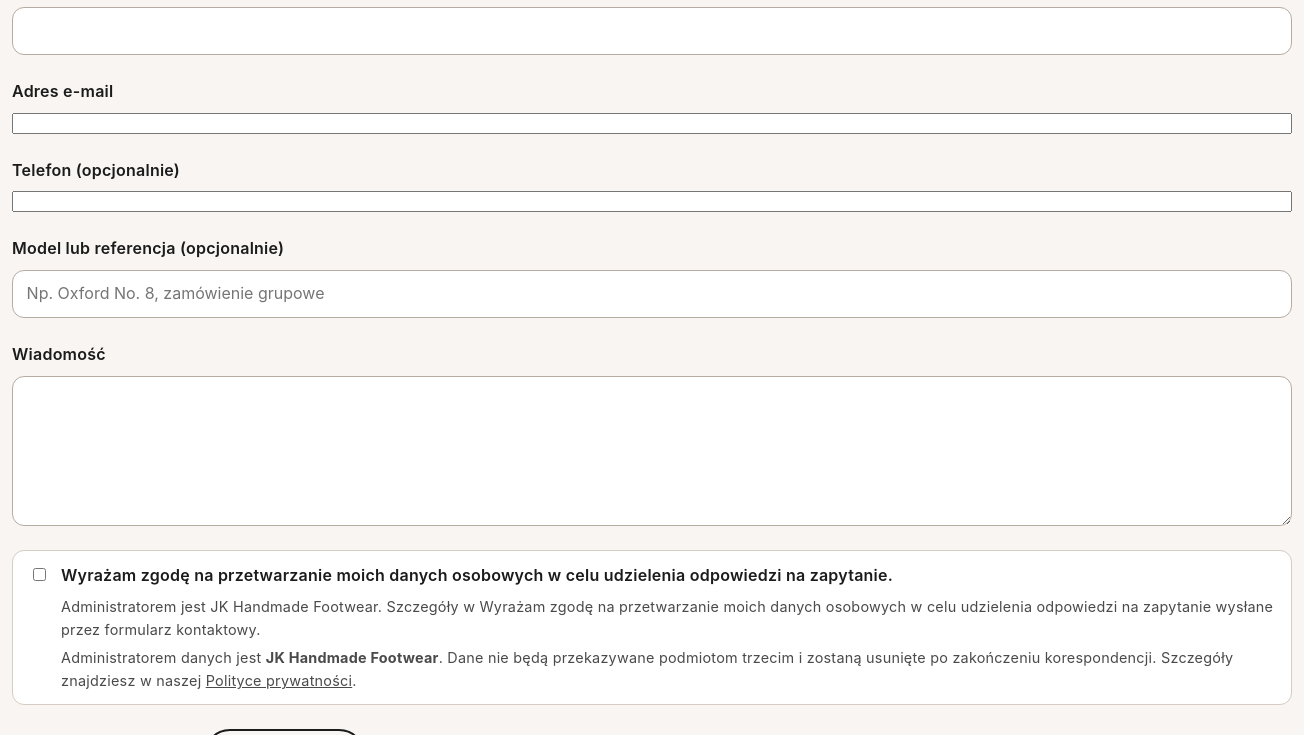
Test: ContactForm › blokuje wysyłkę dopóki wymagane pola nie są uzupełnione
In the field labelled "Imię": point(652, 31) [12,7,1292,55], type "Jan"
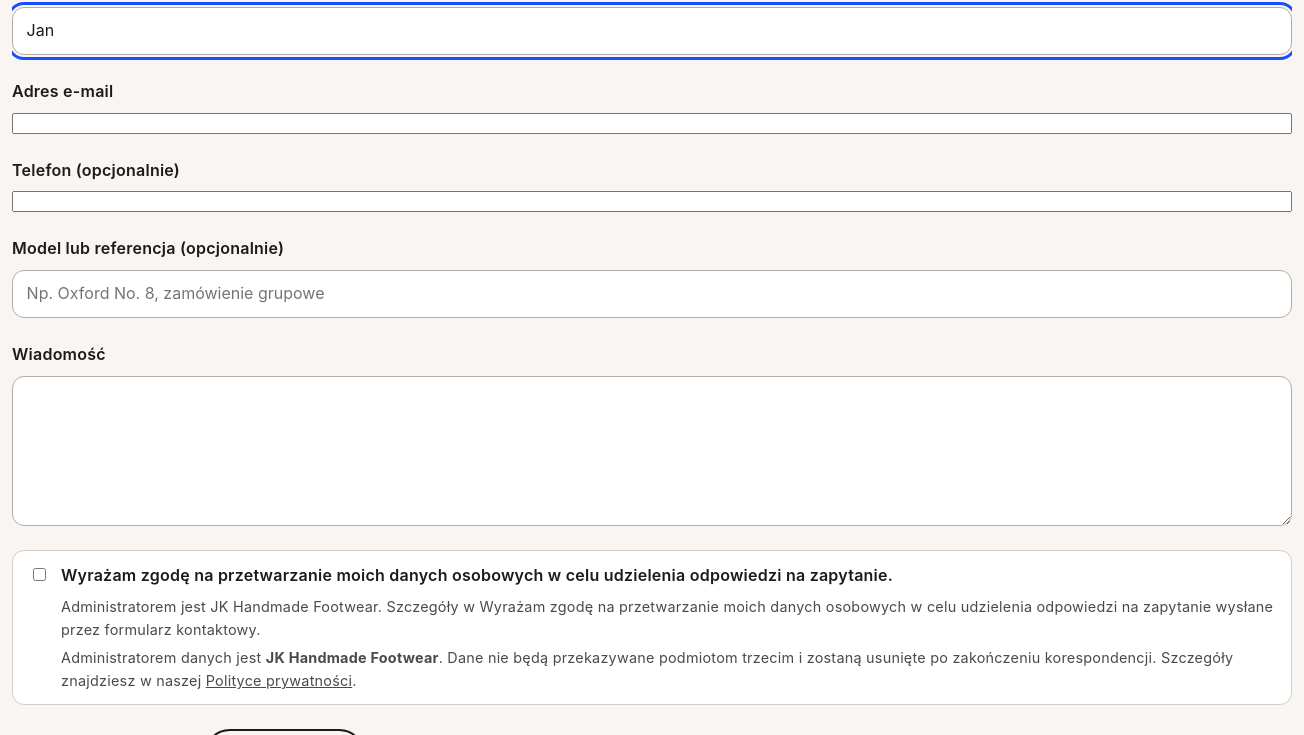
In the field labelled "Adres e-mail": point(652, 123) [12,113,1292,134], type "jan@example.com"
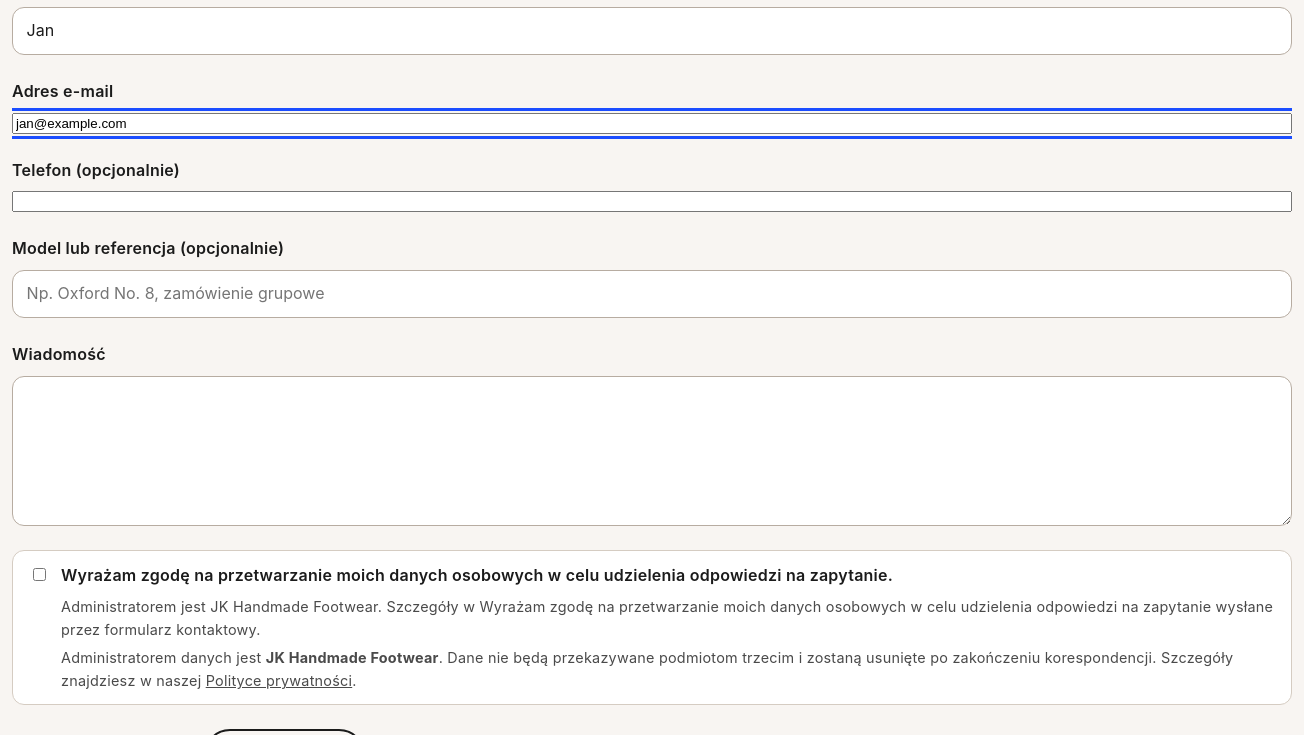
In the text box labelled "Wiadomość": point(652, 451) [12,376,1292,526], type "Szukam butów do nowej postaci."
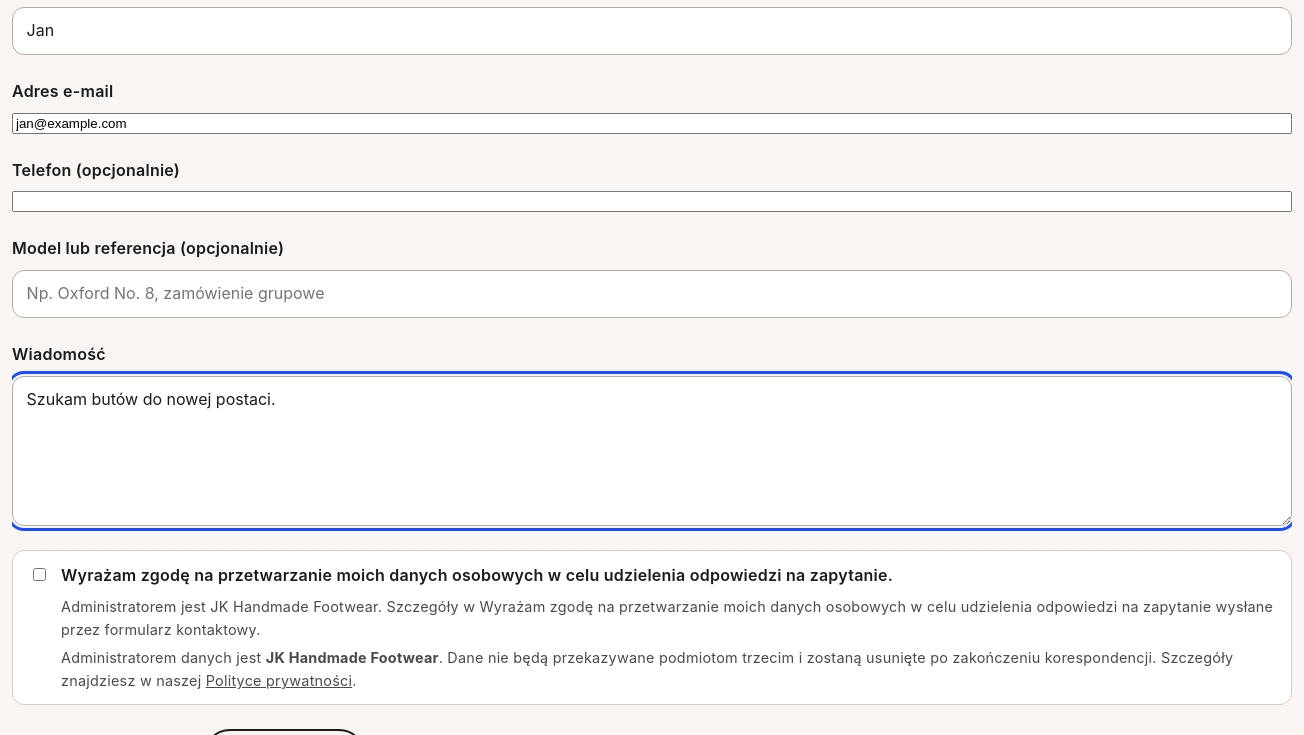
Click the checkbox labelled "Wyrażam zgodę": point(40, 575) [33,568,46,581]
(page scrolled)
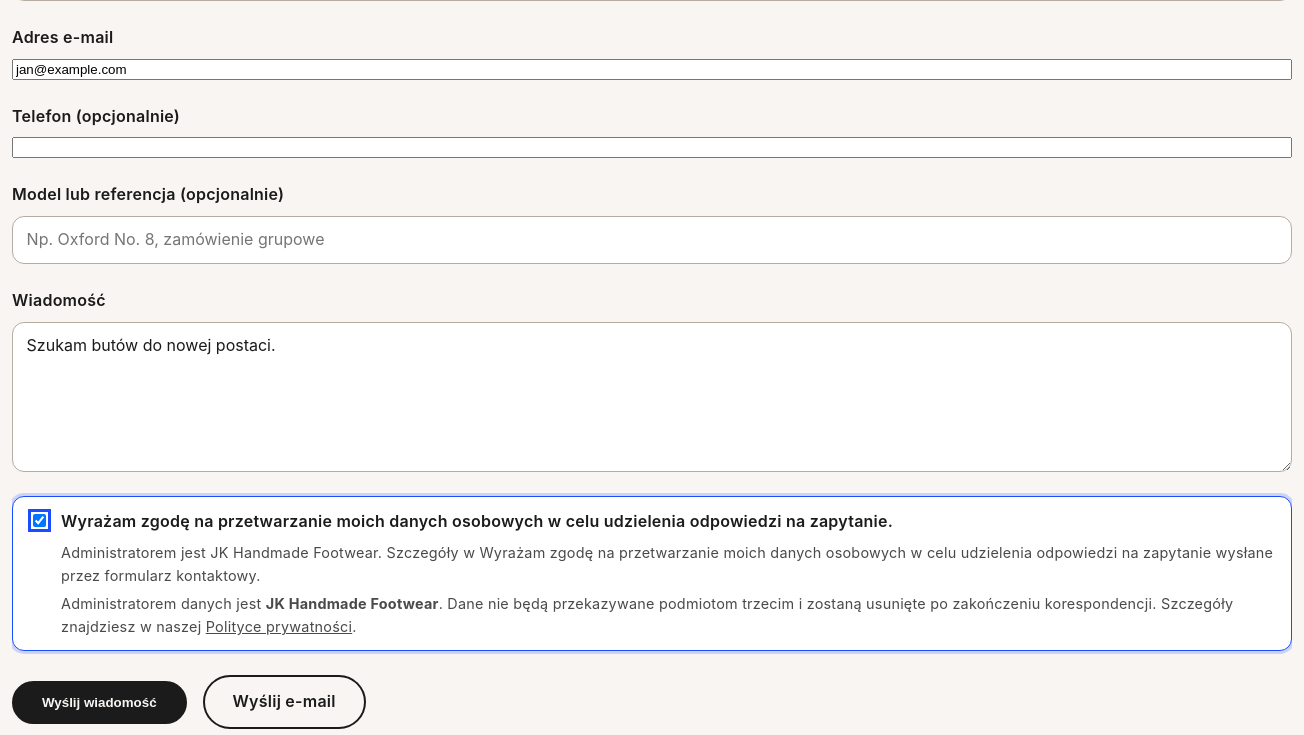
Check: the button "Wyślij wiadomość" is enabled, box [12,681,187,724]
